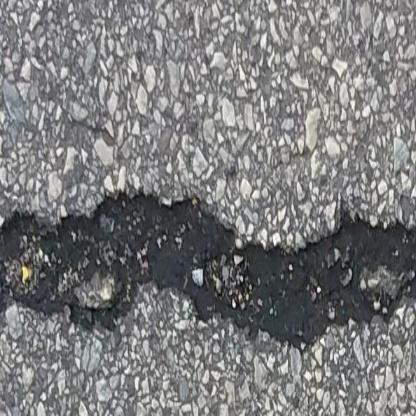Cracks: (0, 190, 416, 350)
